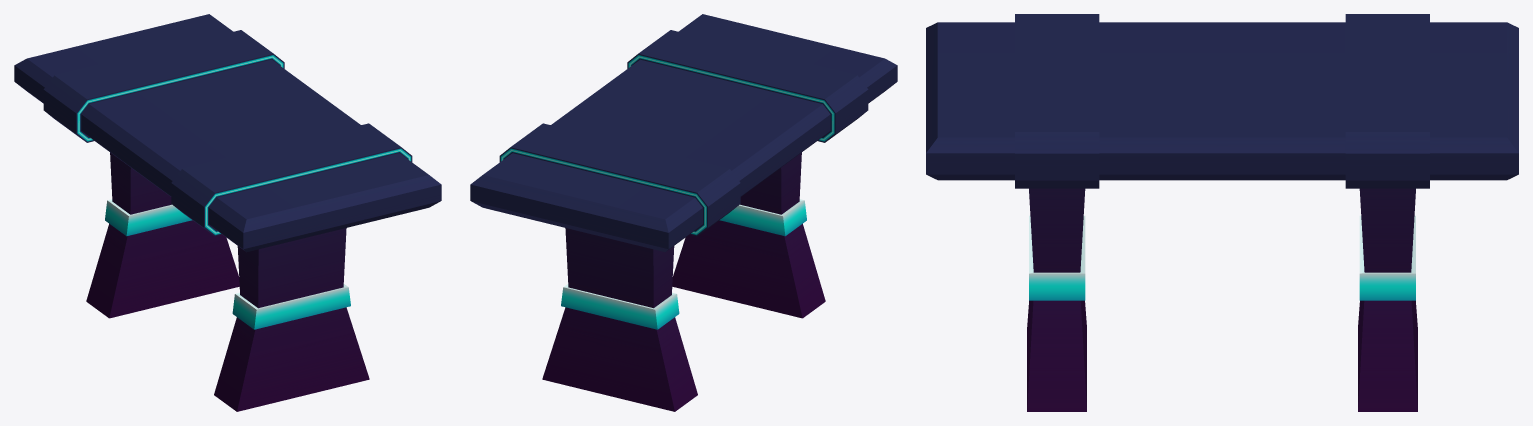
Rendered from SM_Table.fbx.
3 views of the same model, side by side, from view 1: azimuth 30°, elevation 25°; view 2: azimuth 150°, elevation 25°; view 3: azimuth 270°, elevation 25° (orthographic). The views are drawn at different scales.
Parts seen in each view (by area): view 1: SM_Table; view 2: SM_Table; view 3: SM_Table.
Boxes of the visible parts, x1=… form: SM_Table: x1=14, y1=14, x2=441, y2=411; SM_Table: x1=470, y1=14, x2=897, y2=411; SM_Table: x1=926, y1=14, x2=1518, y2=411.
Bounding box in the file's own units: 105 × 111 × 200.
